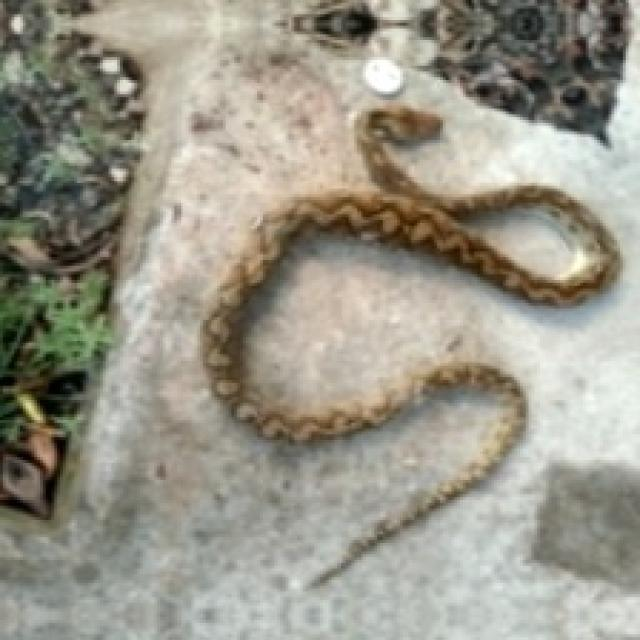reticulated python: (203, 106, 617, 583), (280, 274, 371, 380)
